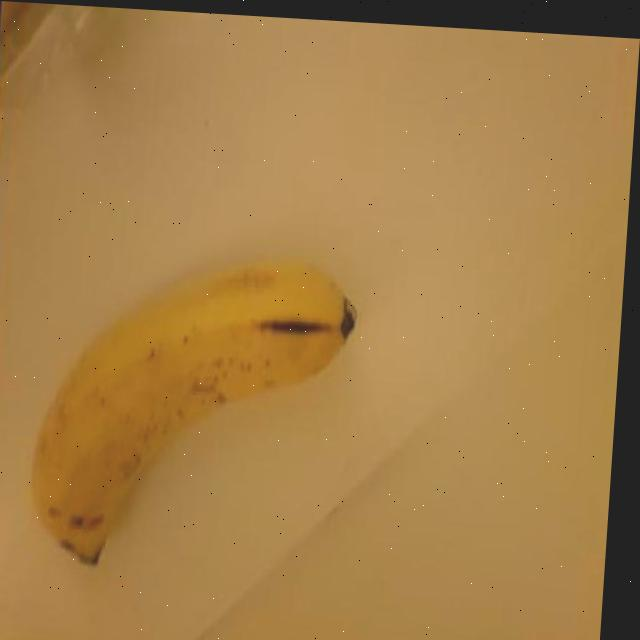banana: (17, 231, 365, 590)
